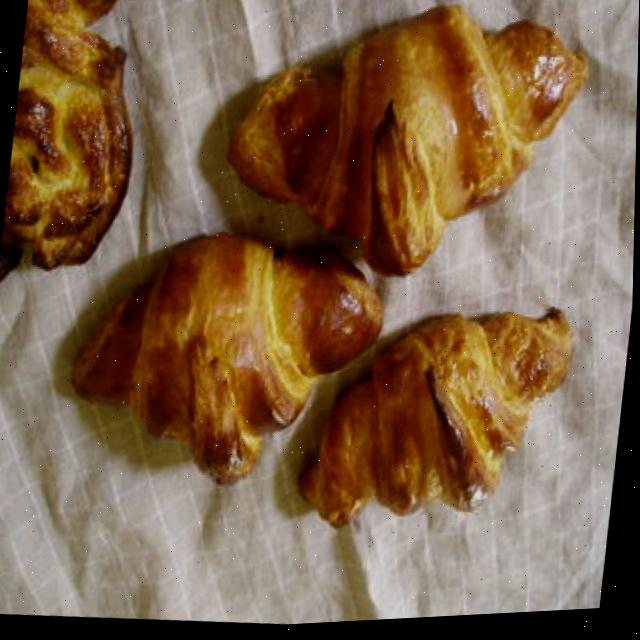面包点心: (49, 0, 610, 584)
